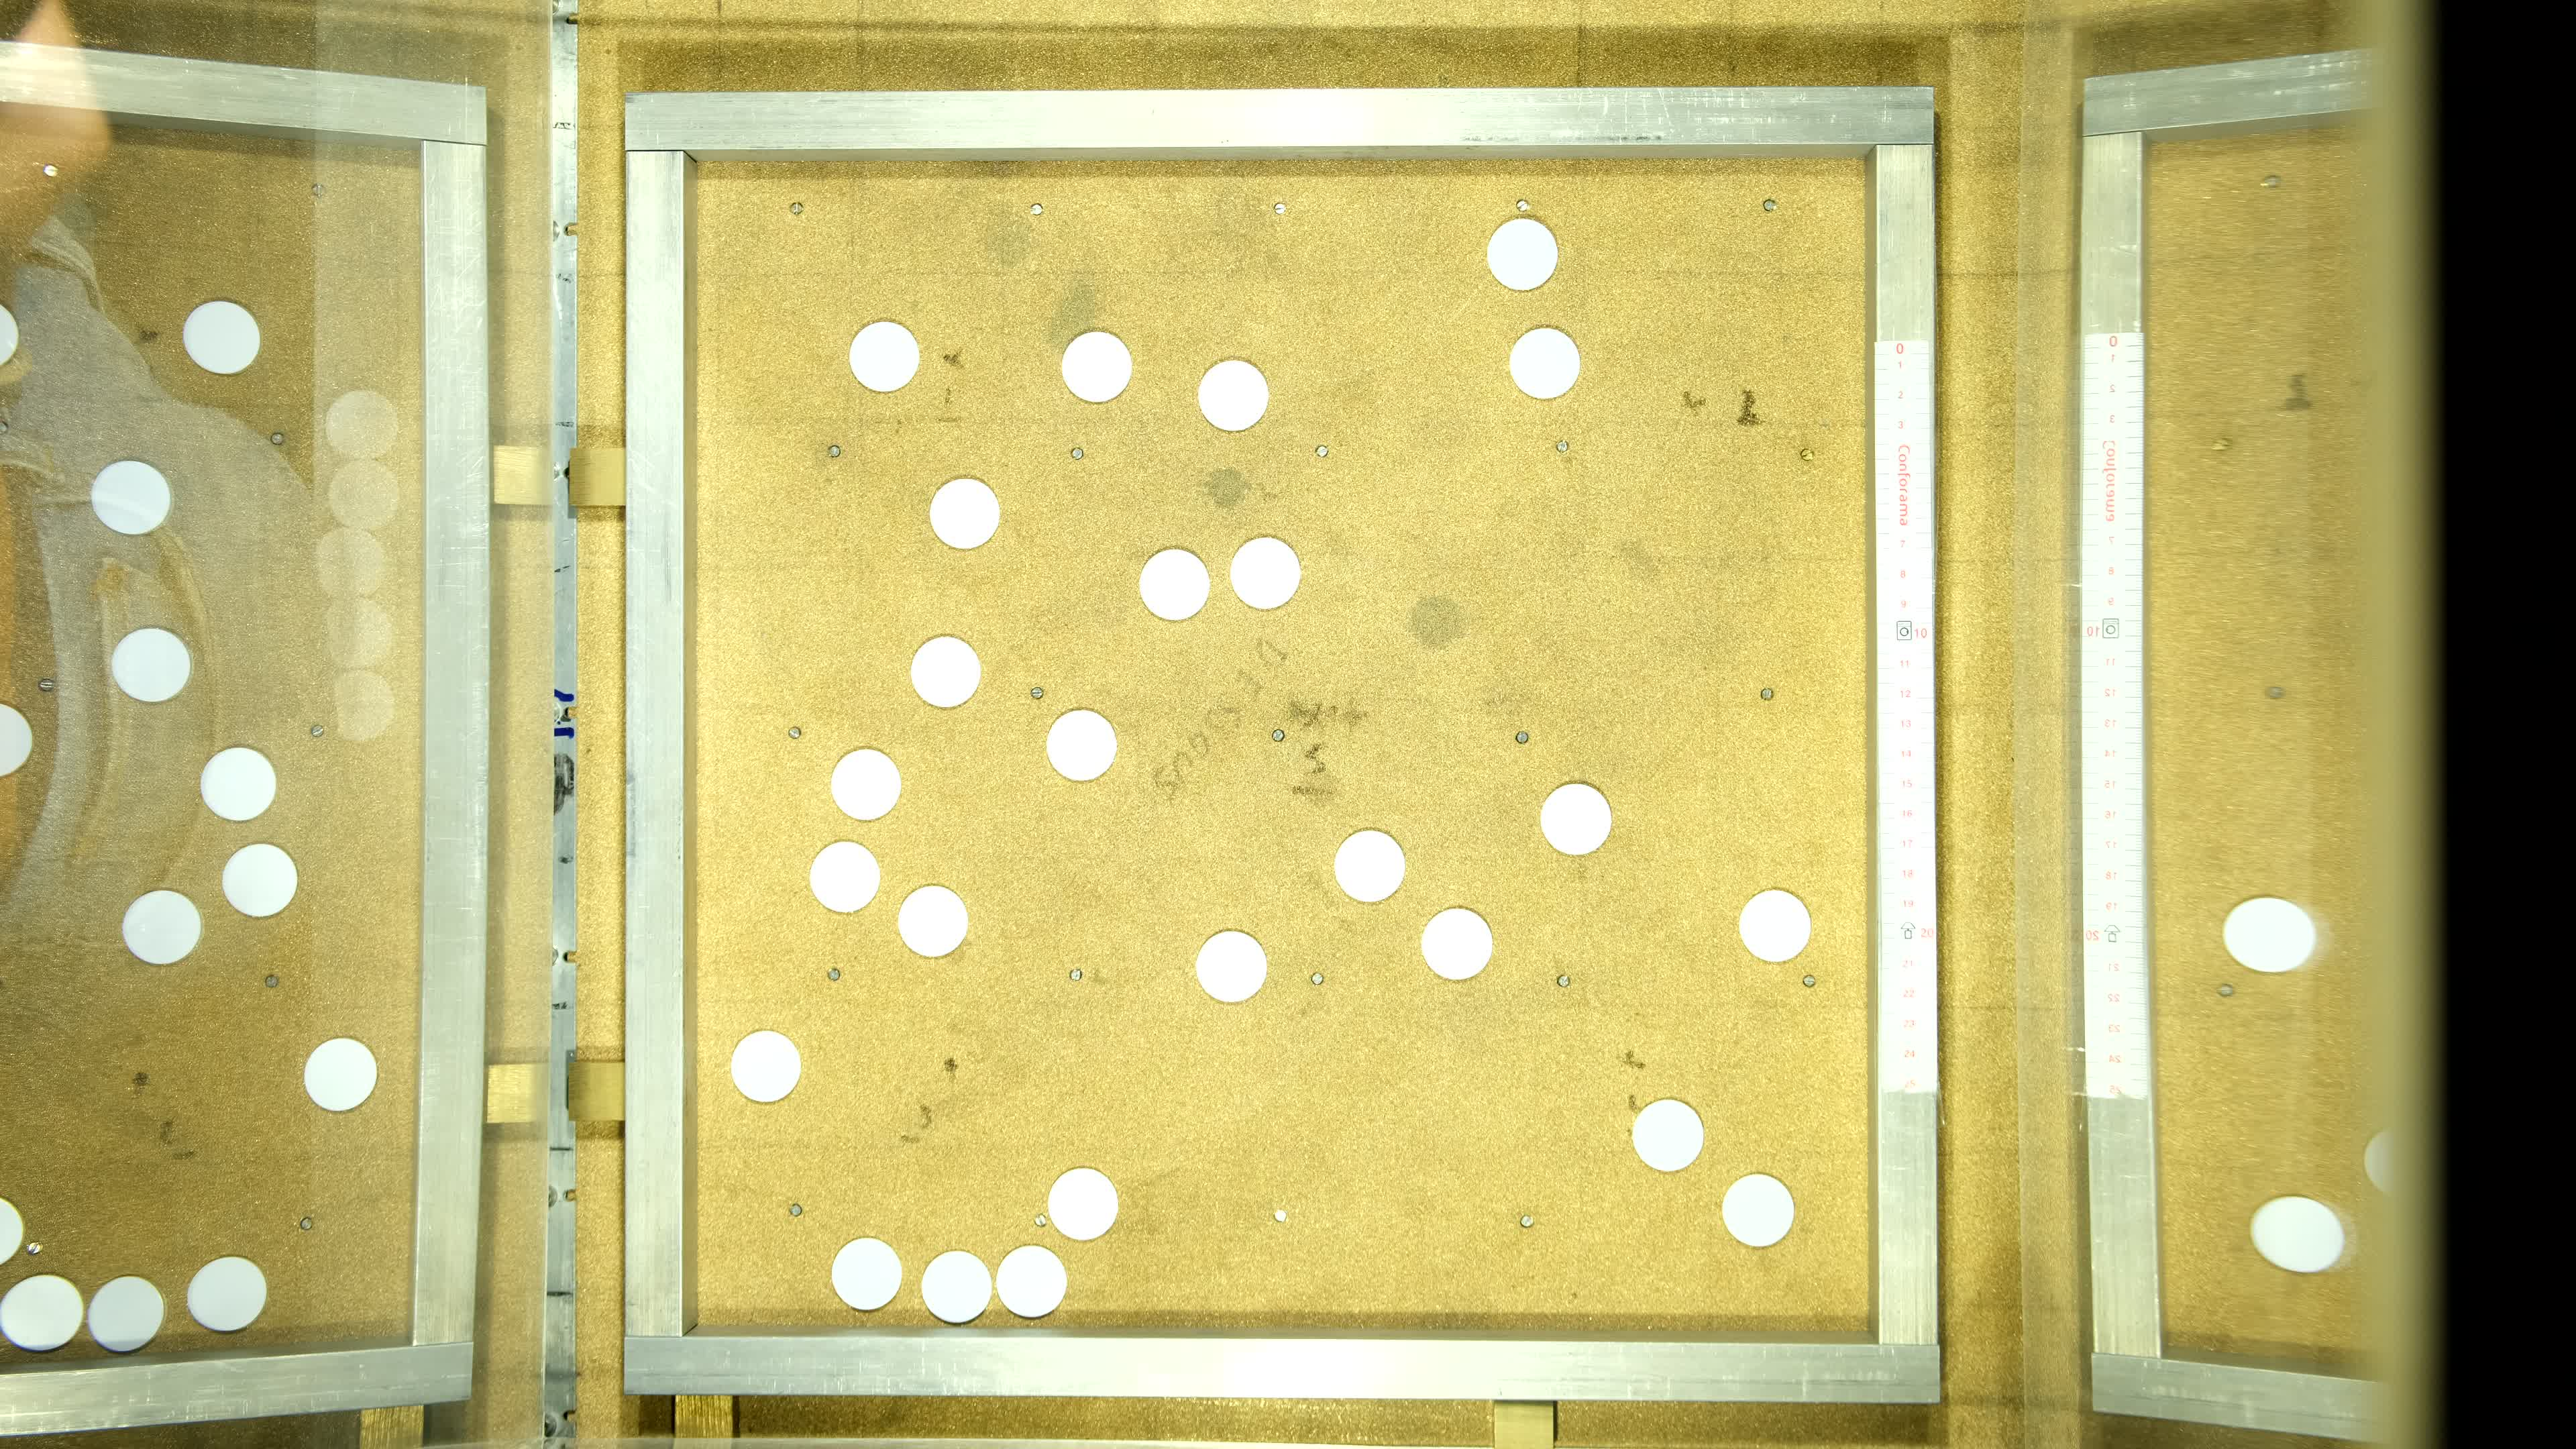pallet: (847, 318, 920, 395), (994, 1244, 1067, 1320), (922, 1249, 994, 1325), (830, 1231, 902, 1307), (727, 1028, 800, 1104), (1044, 1169, 1116, 1246), (1737, 886, 1810, 962), (1424, 904, 1497, 980), (1539, 782, 1612, 858), (1334, 828, 1407, 904), (893, 886, 966, 962), (809, 840, 881, 916), (828, 743, 901, 819), (1046, 708, 1118, 784), (927, 472, 1000, 548), (1139, 547, 1212, 623), (1230, 536, 1302, 612), (1200, 359, 1272, 435), (1062, 327, 1134, 403), (1509, 324, 1582, 400), (1488, 218, 1560, 294), (1723, 1171, 1796, 1246), (847, 317, 918, 393), (1633, 1097, 1704, 1173), (1194, 924, 1265, 1000), (911, 630, 982, 706)
